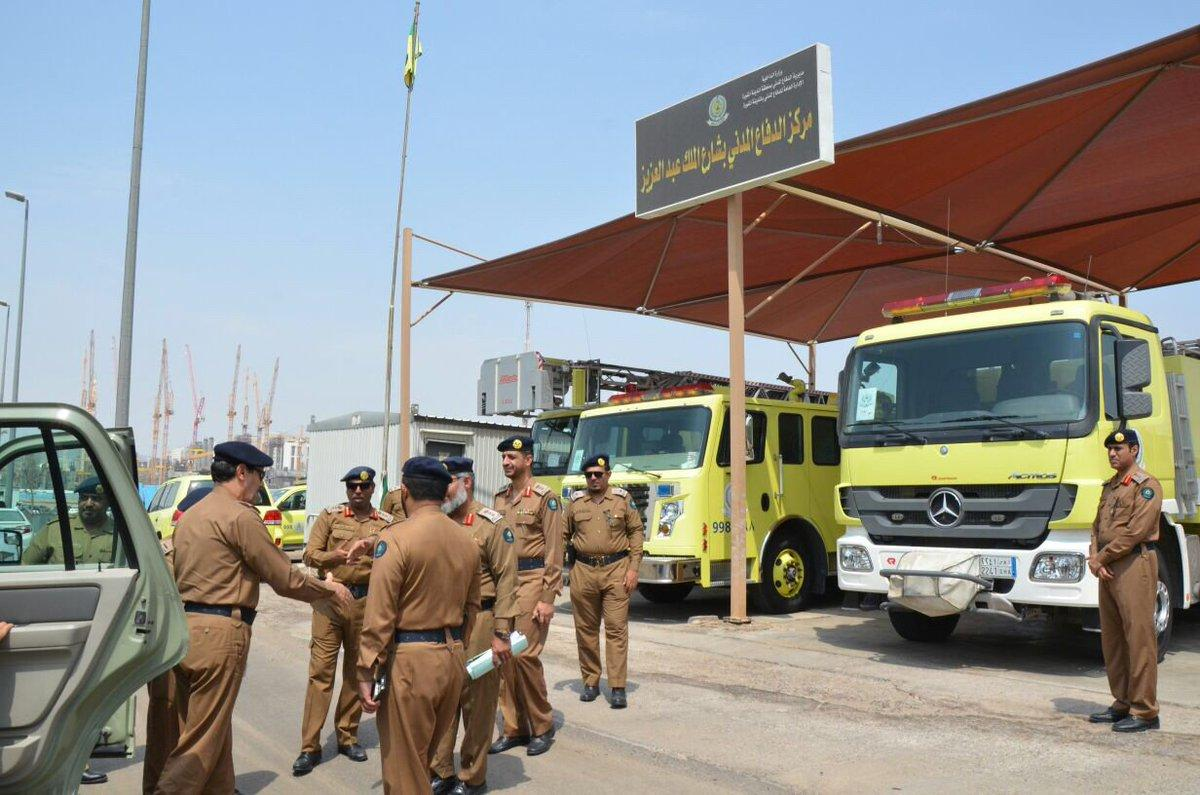firetruck_off: (835, 275, 1200, 654), (528, 385, 853, 612)
